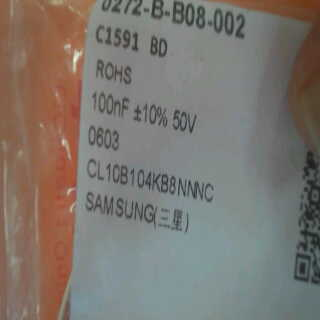100nF: (80, 81, 129, 123)
